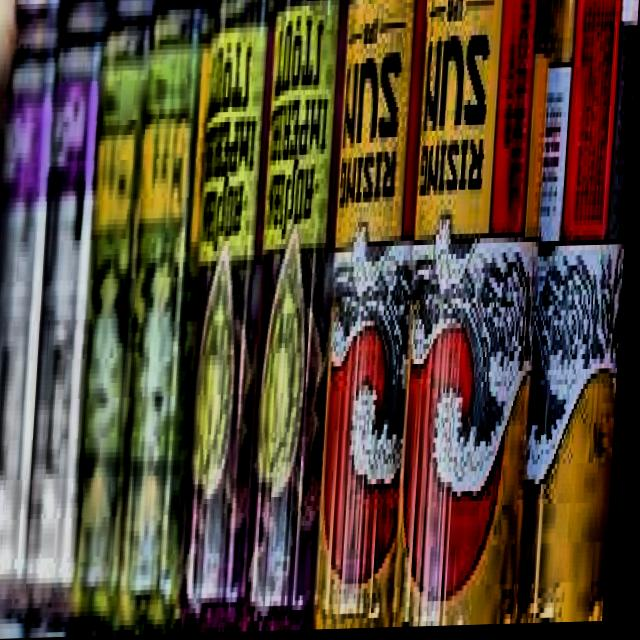can: (395, 0, 552, 630), (518, 0, 640, 627), (318, 0, 432, 632), (244, 0, 354, 634), (112, 0, 215, 637), (182, 0, 279, 635), (27, 0, 114, 606), (74, 0, 150, 638), (0, 0, 62, 593)
